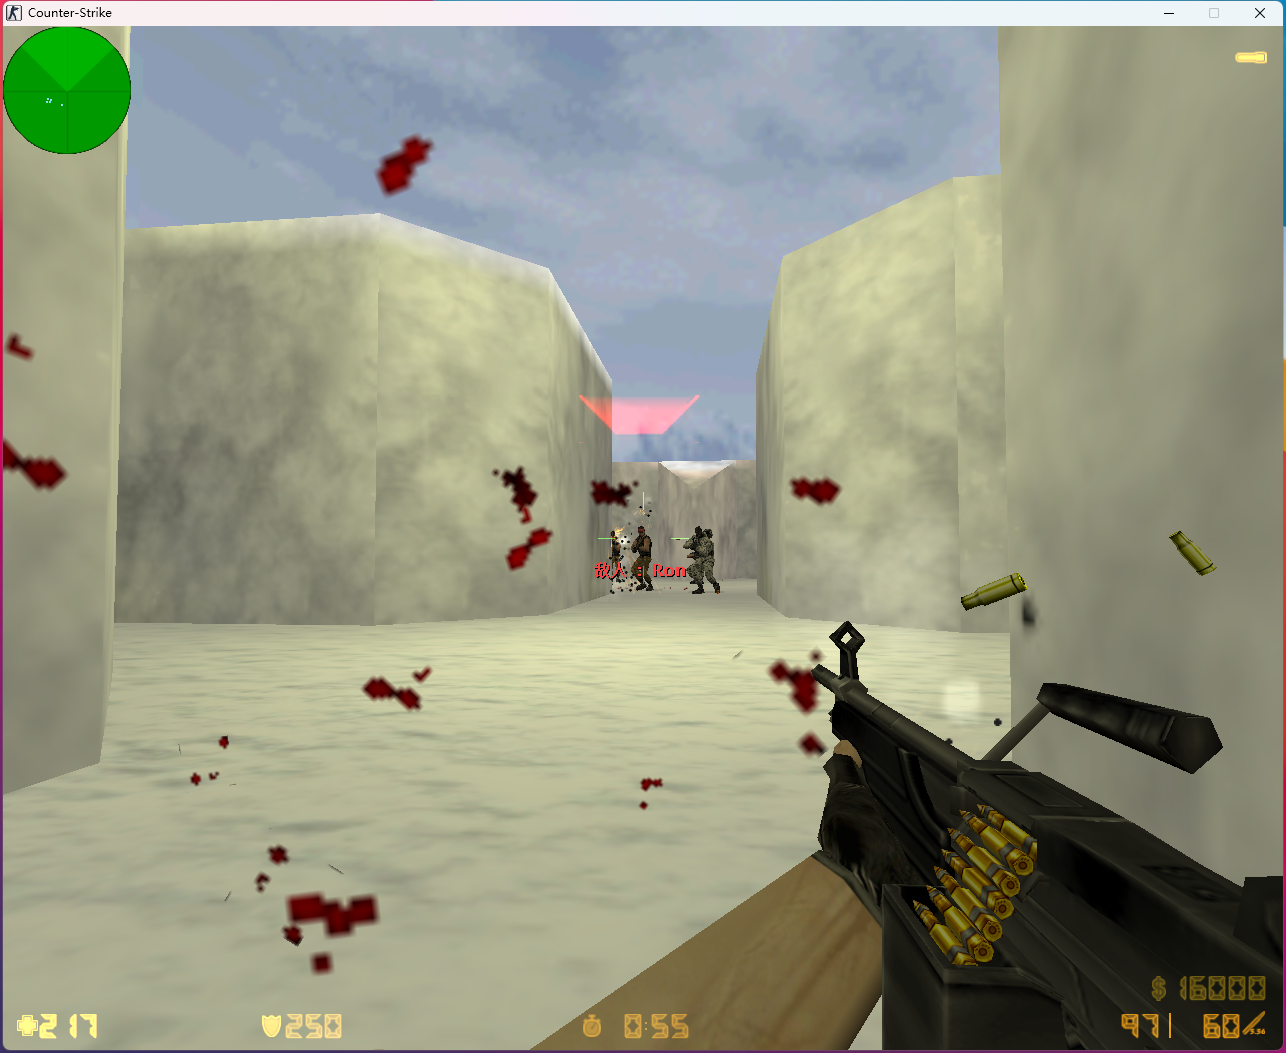T: (685, 526, 718, 593), (632, 526, 653, 590), (607, 530, 622, 583)
